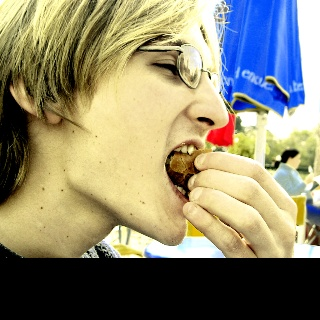without_mask: (62, 25, 230, 246), (290, 154, 300, 169)
